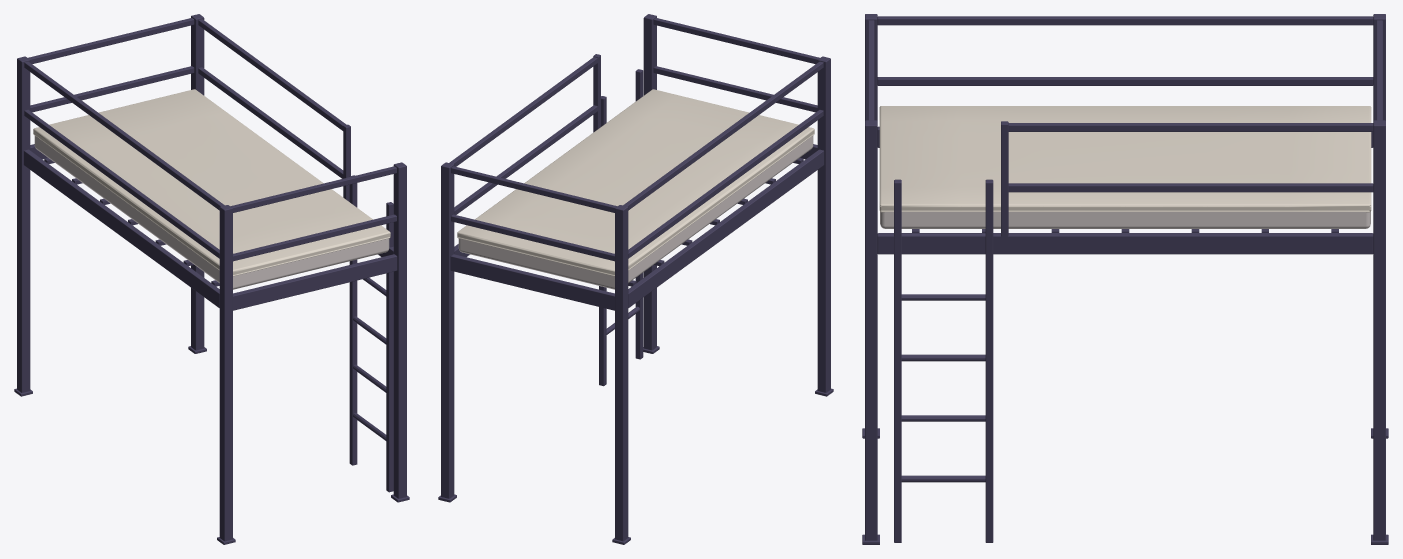
The model's file is bed_loft.glb.
3 views of the same model, side by side, from view 1: azimuth 30°, elevation 25°; view 2: azimuth 150°, elevation 25°; view 3: azimuth 270°, elevation 25° (orthographic). The views are drawn at different scales.
Visible parts, largest first — view 1: bed_loft; view 2: bed_loft; view 3: bed_loft.
Part boxes in pixels (<box>): bed_loft: <box>14,14,409,544</box>; bed_loft: <box>438,14,833,544</box>; bed_loft: <box>862,14,1388,544</box>.
Bounding box in the file's own units: 1.05 × 1.8 × 2.05.
